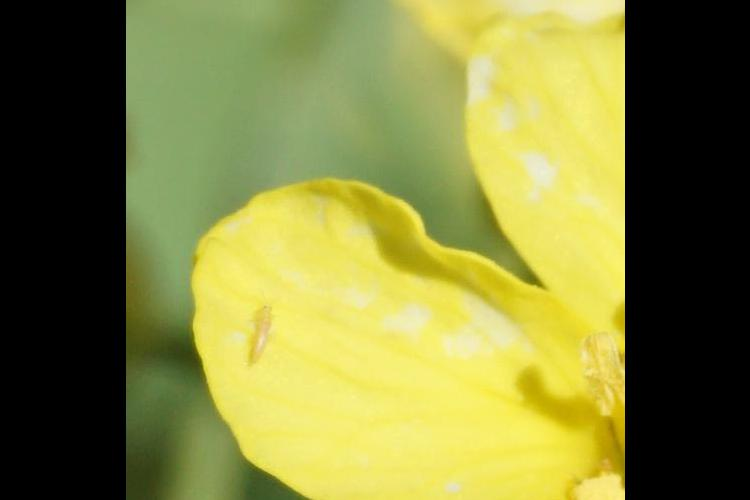yellow: (195, 12, 625, 500)
